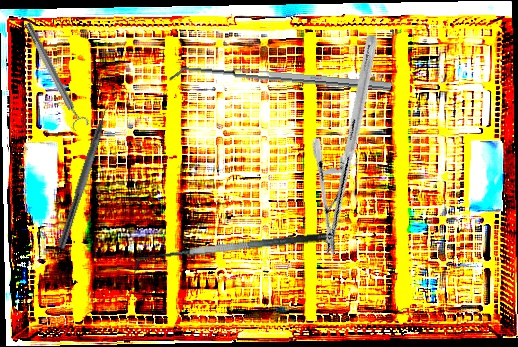Chopper: (57, 95, 122, 253)
Fixation Ring: (19, 18, 91, 133)
Needle Holder: (265, 32, 437, 259)
Spatula Surgical: (132, 230, 335, 275), (169, 62, 392, 100)
